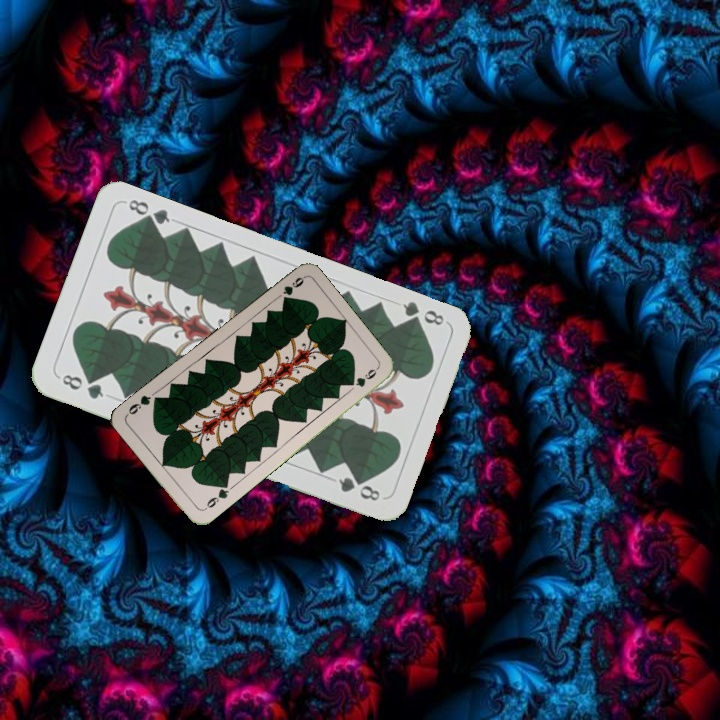G8: (55, 370, 106, 402), (398, 297, 447, 330)
G9: (199, 480, 232, 513), (279, 273, 307, 297)
